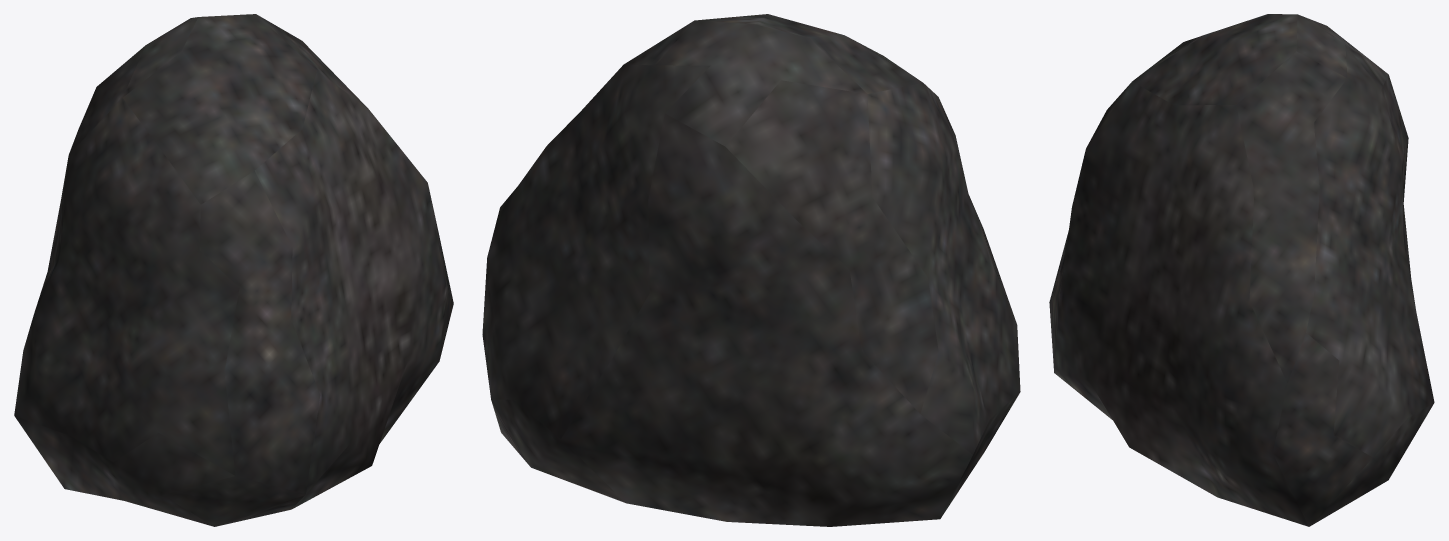
File: rock 5.glb
3 renders of one model, left to right at view 1: azimuth 30°, elevation 25°; view 2: azimuth 150°, elevation 25°; view 3: azimuth 270°, elevation 25°, orthographic. The views are drawn at different scales.
Visible parts, largest first — view 1: AR05; view 2: AR05; view 3: AR05.
Boxes of the visible parts, x1,y1,x2,y2 form: AR05: [14, 14, 453, 526]; AR05: [482, 14, 1020, 526]; AR05: [1049, 14, 1434, 526].
Bounding box in the file's own units: 8.16 × 7.8 × 6.51.
Materials: 1 (1 with a texture image).
